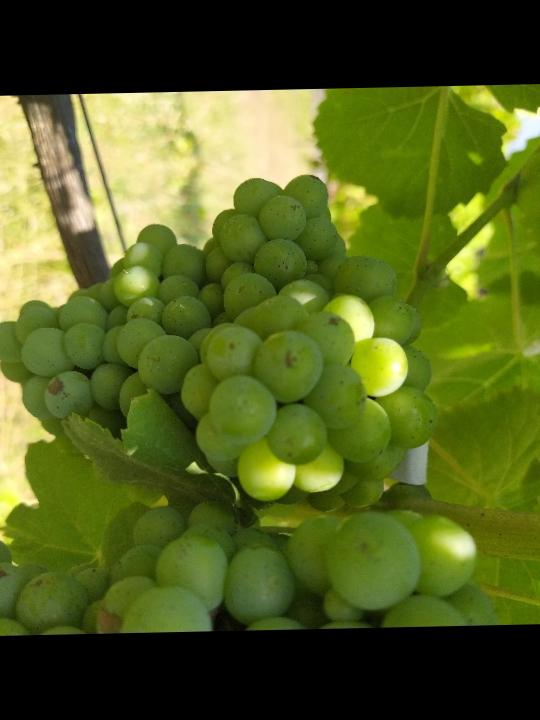grape: (0, 171, 443, 521)
